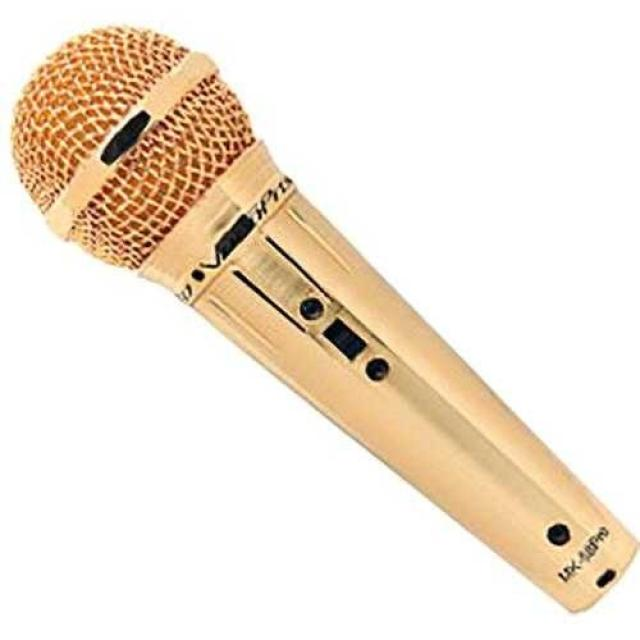microphone: (13, 25, 622, 608)
